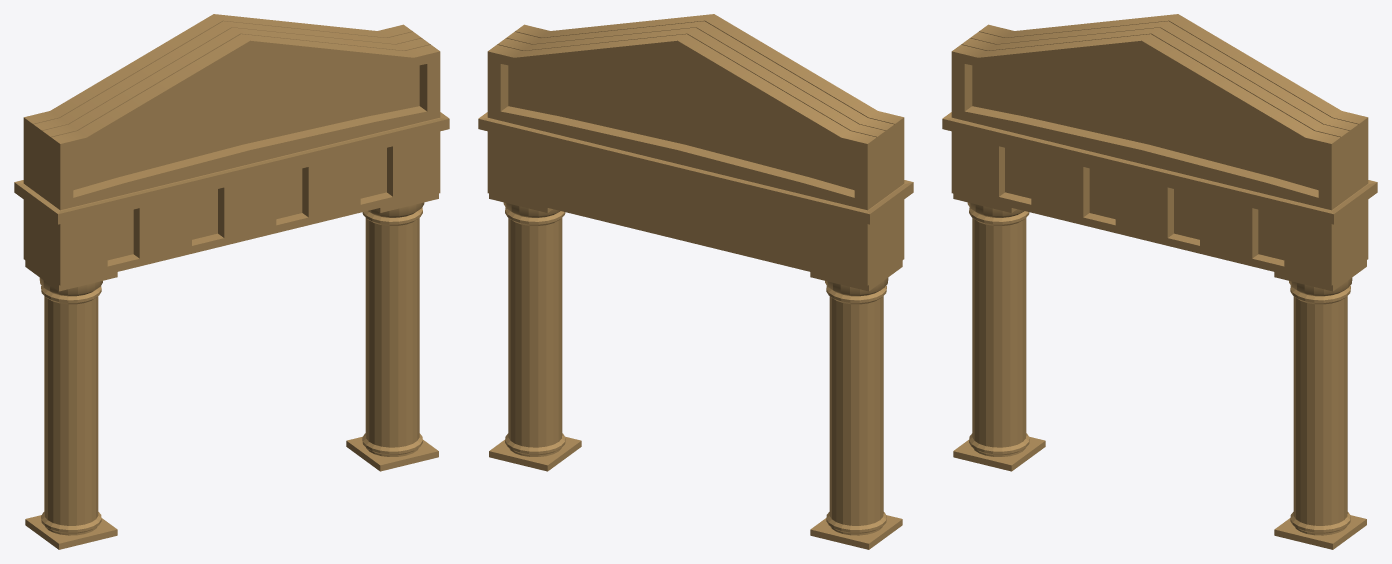
File: Greek_Triangle_Gate_6_1_7_Colored.fbx
3 renders of one model, left to right at view 1: azimuth 30°, elevation 25°; view 2: azimuth 150°, elevation 25°; view 3: azimuth 330°, elevation 25°, orthographic.
Visible parts, largest first — view 1: Triangle_Roof_v02, Roof_Base, Greek_Pillar1_Greek_Pillar_Base46, Greek_Pillar1_Greek_Pillar_Base45; view 2: Triangle_Roof_v02, Roof_Base, Greek_Pillar1_Greek_Pillar_Base46, Greek_Pillar1_Greek_Pillar_Base45; view 3: Triangle_Roof_v02, Roof_Base, Greek_Pillar1_Greek_Pillar_Base45, Greek_Pillar1_Greek_Pillar_Base46.
Part boxes in pixels (x1,y1,x2,y2): Triangle_Roof_v02: [23, 14, 440, 210]; Roof_Base: [14, 112, 449, 285]; Greek_Pillar1_Greek_Pillar_Base46: [25, 260, 117, 549]; Greek_Pillar1_Greek_Pillar_Base45: [346, 193, 438, 471]; Triangle_Roof_v02: [487, 14, 904, 210]; Roof_Base: [478, 112, 913, 285]; Greek_Pillar1_Greek_Pillar_Base46: [810, 260, 902, 549]; Greek_Pillar1_Greek_Pillar_Base45: [489, 193, 581, 471]; Triangle_Roof_v02: [951, 14, 1368, 210]; Roof_Base: [942, 112, 1377, 285]; Greek_Pillar1_Greek_Pillar_Base45: [1274, 260, 1366, 549]; Greek_Pillar1_Greek_Pillar_Base46: [953, 193, 1045, 471].
Size of the model in its own units: 618 by 700 by 120.
